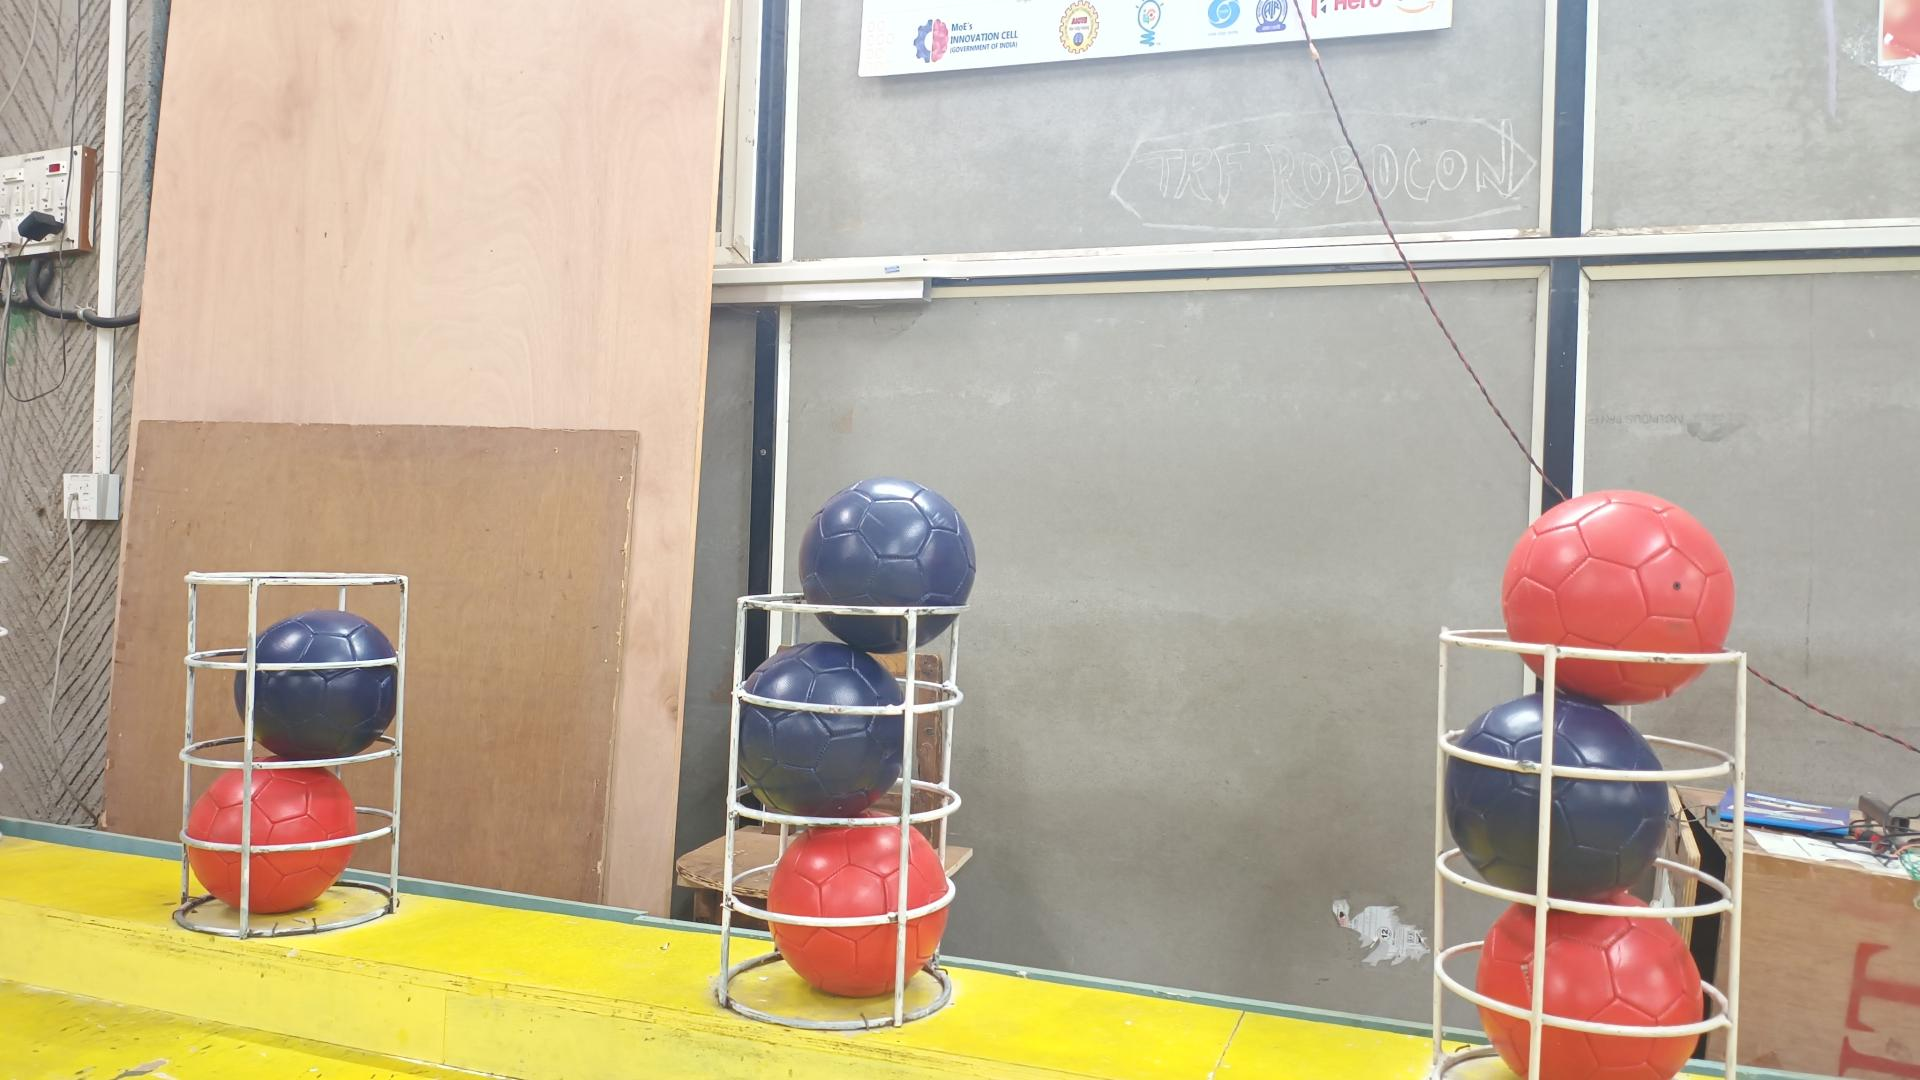dhoka: (1444, 691, 1672, 902), (799, 477, 976, 654), (736, 641, 905, 818), (232, 611, 397, 760)
laale: (1499, 491, 1735, 708), (1474, 903, 1705, 1080), (769, 824, 953, 997), (185, 766, 357, 913)
